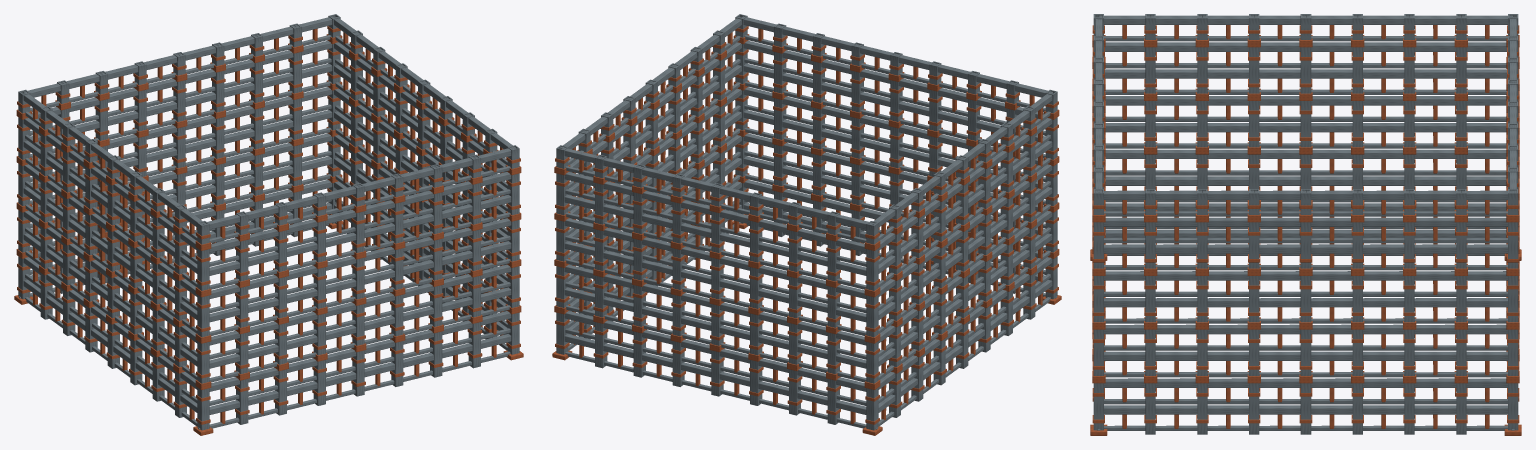
3 views of the same model, side by side, from view 1: azimuth 30°, elevation 25°; view 2: azimuth 150°, elevation 25°; view 3: azimuth 270°, elevation 25° (orthographic). The views are drawn at different scales.
Visible parts, largest first — view 1: no part large enough to name; view 2: no part large enough to name; view 3: Tier 0 side 1 post 4, Tier 0 side 1 post 1, Tier 0 side 1 post 2, Tier 0 side 1 post 6, Tier 0 side 1 post 7, Tier 0 side 1 post 3, Tier 0 side 1 post 5, Tier 2 side 1 post 4, Tier 3 side 3 post 4, Tier 2 side 3 post 4, Tier 3 side 1 post 4, Tier 1 side 1 post 4 (+112 smaller).
Part boxes in pixels (x1,y1,x2,y2): Tier 0 side 1 post 4: (1300, 383, 1311, 434); Tier 0 side 1 post 1: (1145, 383, 1155, 434); Tier 0 side 1 post 2: (1197, 383, 1207, 434); Tier 0 side 1 post 6: (1404, 383, 1414, 434); Tier 0 side 1 post 7: (1456, 383, 1466, 434); Tier 0 side 1 post 3: (1249, 383, 1259, 434); Tier 0 side 1 post 5: (1352, 383, 1362, 434); Tier 2 side 1 post 4: (1300, 276, 1311, 322); Tier 3 side 3 post 4: (1300, 47, 1311, 93); Tier 2 side 3 post 4: (1300, 101, 1311, 147); Tier 3 side 1 post 4: (1300, 222, 1311, 268); Tier 1 side 1 post 4: (1300, 329, 1311, 375).
Size of the model in its own units: 3.75 by 2.31 by 3.75.
2 materials, 2 textured.
